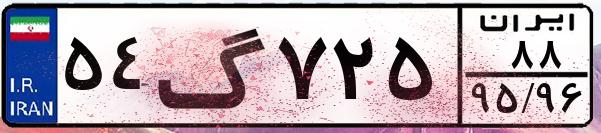2: (330, 28, 385, 110)
4: (110, 28, 156, 98)
5: (385, 28, 445, 110), (57, 26, 110, 100), (495, 70, 520, 125)
6: (560, 70, 590, 125)
7: (270, 28, 330, 110)
8: (537, 27, 568, 80), (508, 27, 537, 80)
9: (470, 70, 495, 125), (535, 70, 560, 125)
گ: (156, 12, 270, 120)
